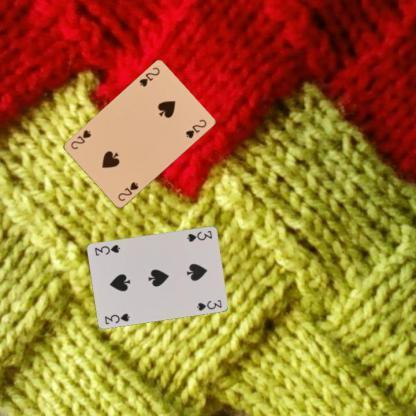2s: (136, 64, 162, 89), (116, 180, 140, 202)
3s: (102, 310, 131, 326), (184, 228, 214, 242)
